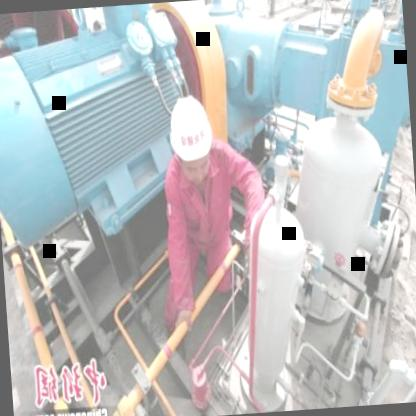helmet: (164, 84, 218, 189)
